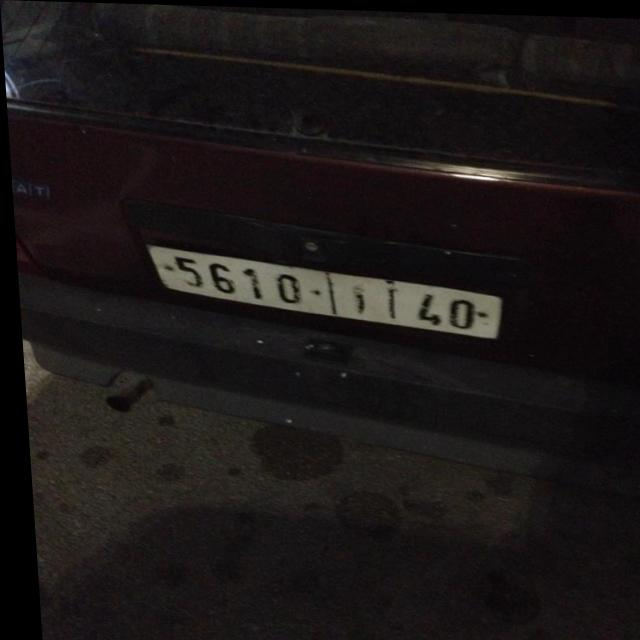License-Plate: (144, 245, 499, 336)
